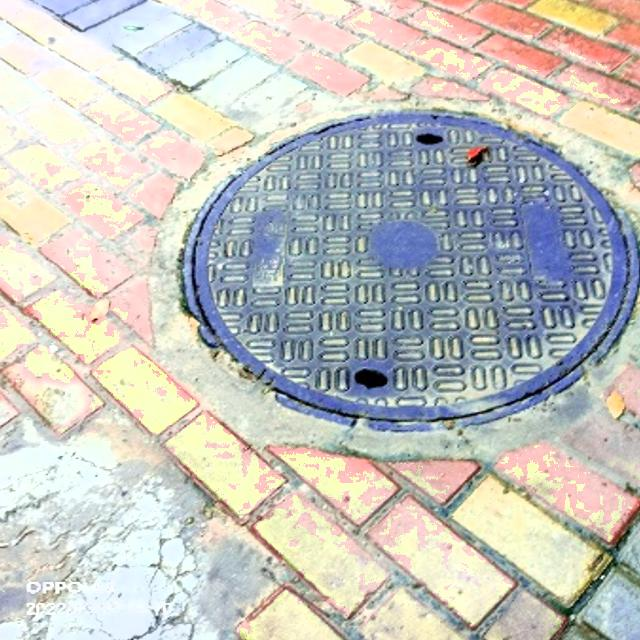good: (182, 111, 640, 431)
